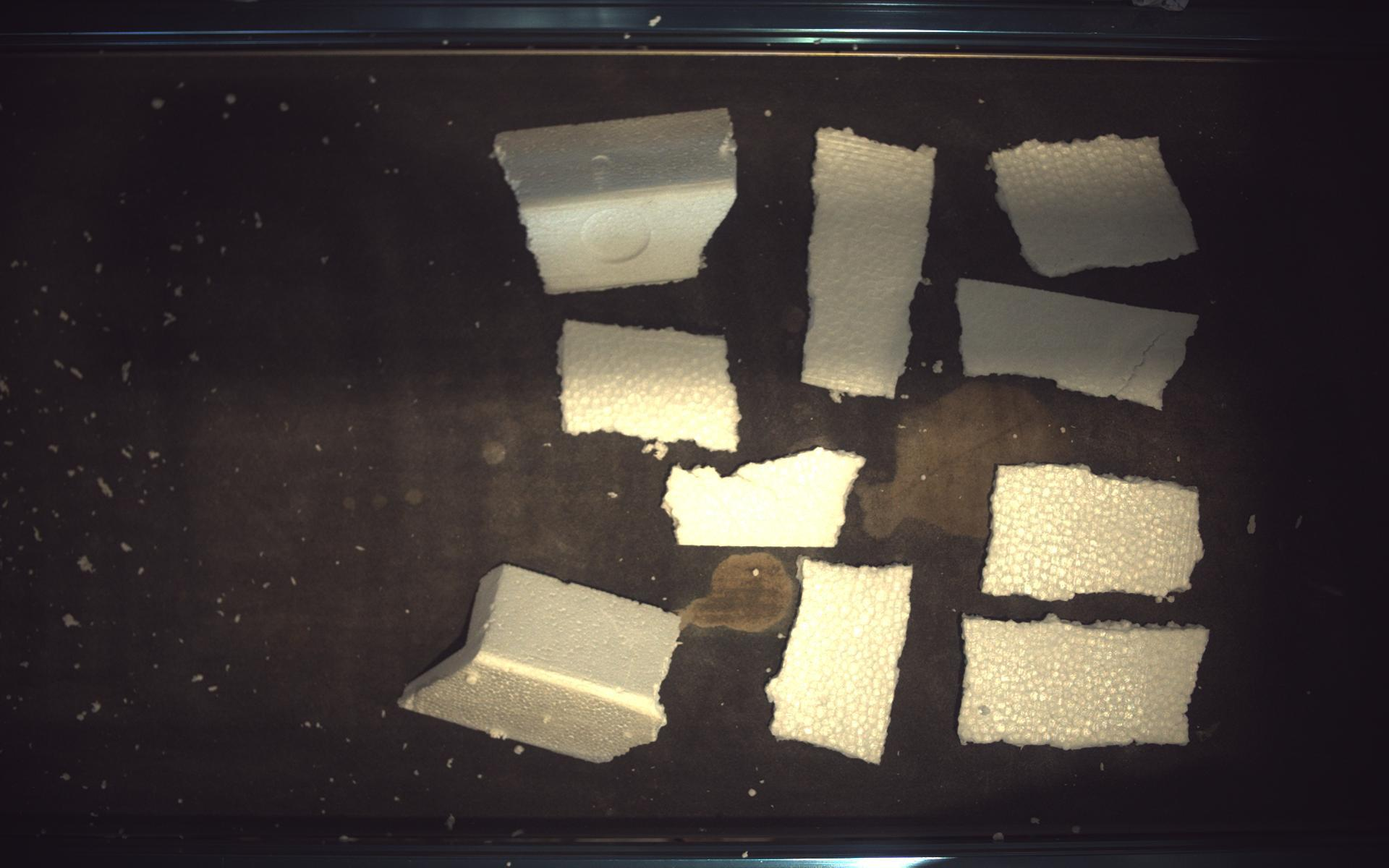foam: (399, 565, 681, 764), (495, 107, 737, 294), (803, 127, 938, 398), (960, 615, 1211, 751), (959, 279, 1200, 409), (768, 558, 914, 765), (985, 465, 1206, 601), (991, 134, 1200, 276), (558, 320, 742, 451), (663, 448, 866, 548)
